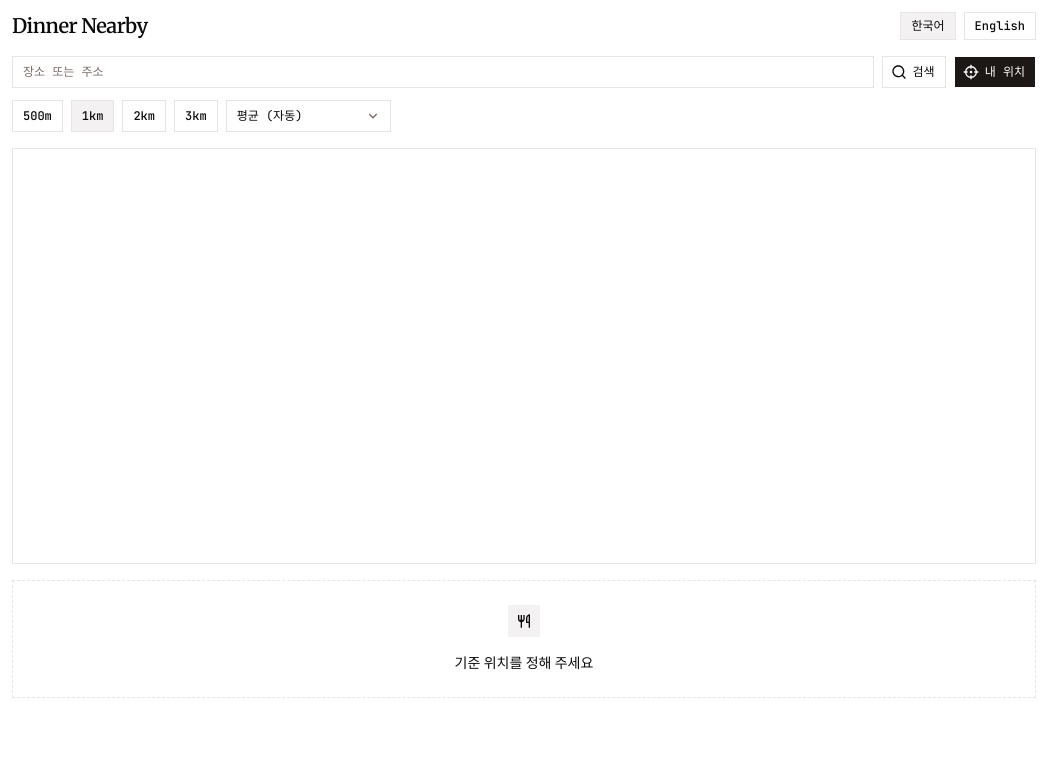
Test: 검색하는 동안 로딩 상태를 보여 준다
This screenshot has width=1048, height=780.
Later steps or results of the test are not shown.
Click the button "내 위치".
click(995, 72)  # box [954, 56, 1036, 88]
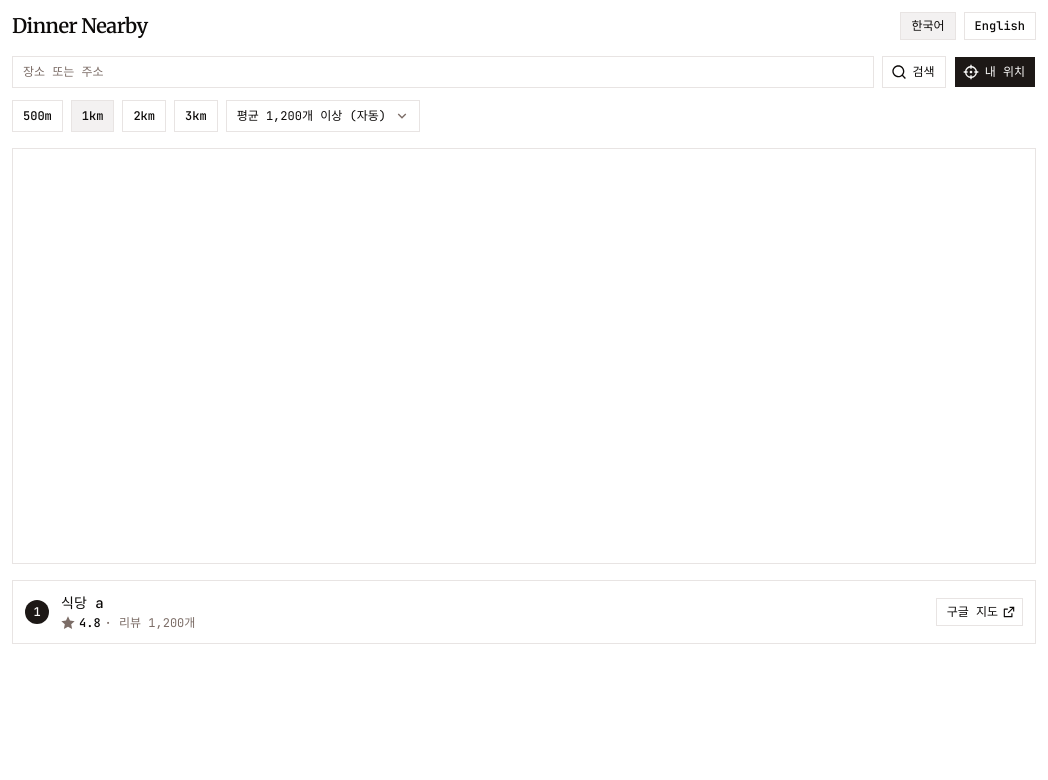
Now the text "식당 a" is shown, box [61, 594, 104, 612]
